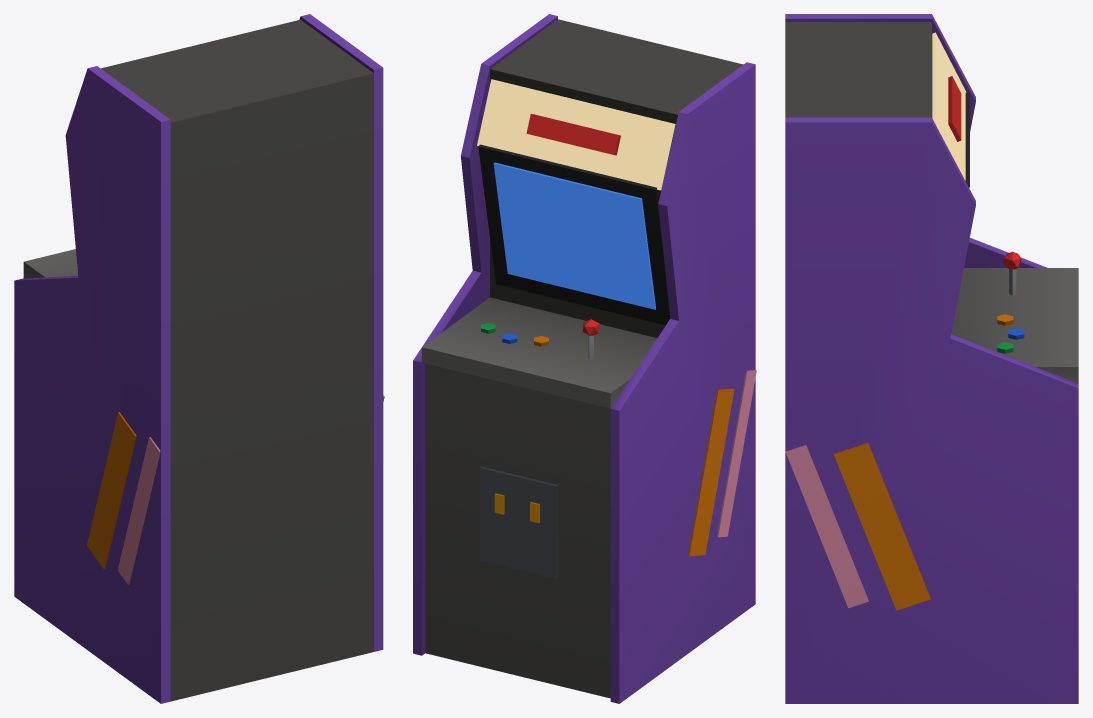
File: arcade_cabinet_01.glb
3 renders of one model, left to right at view 1: azimuth 30°, elevation 25°; view 2: azimuth 150°, elevation 25°; view 3: azimuth 270°, elevation 25°, orthographic. The views are drawn at different scales.
Parts seen in each view (by area): view 1: arcade_cabinet_01_mesh; view 2: arcade_cabinet_01_mesh, arcade_cabinet_01_screen, arcade_cabinet_01_lamp; view 3: arcade_cabinet_01_mesh, arcade_cabinet_01_lamp.
Part boxes in pixels (left/top/right/bottom): arcade_cabinet_01_mesh: left=14, top=14, right=384, bottom=703; arcade_cabinet_01_mesh: left=413, top=14, right=756, bottom=703; arcade_cabinet_01_screen: left=493, top=162, right=655, bottom=309; arcade_cabinet_01_lamp: left=477, top=79, right=675, bottom=190; arcade_cabinet_01_mesh: left=785, top=14, right=1078, bottom=703; arcade_cabinet_01_lamp: left=932, top=32, right=966, bottom=180.
Bounding box in the file's own units: 0.7091 × 1.75 × 0.7999.
Materials: 2 (2 with a texture image).
